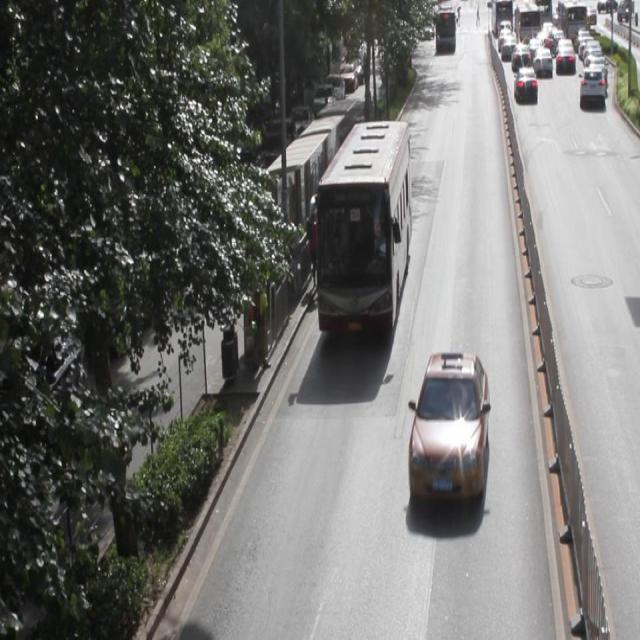car: (408, 348, 487, 501)
van: (315, 121, 408, 334)
